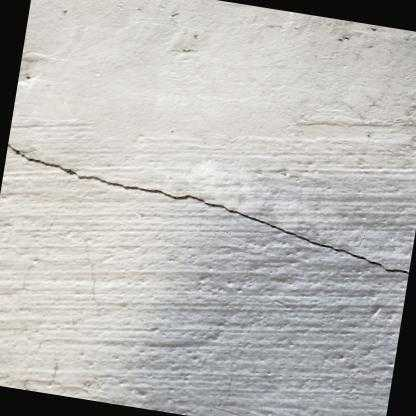crack: (7, 142, 409, 275)
